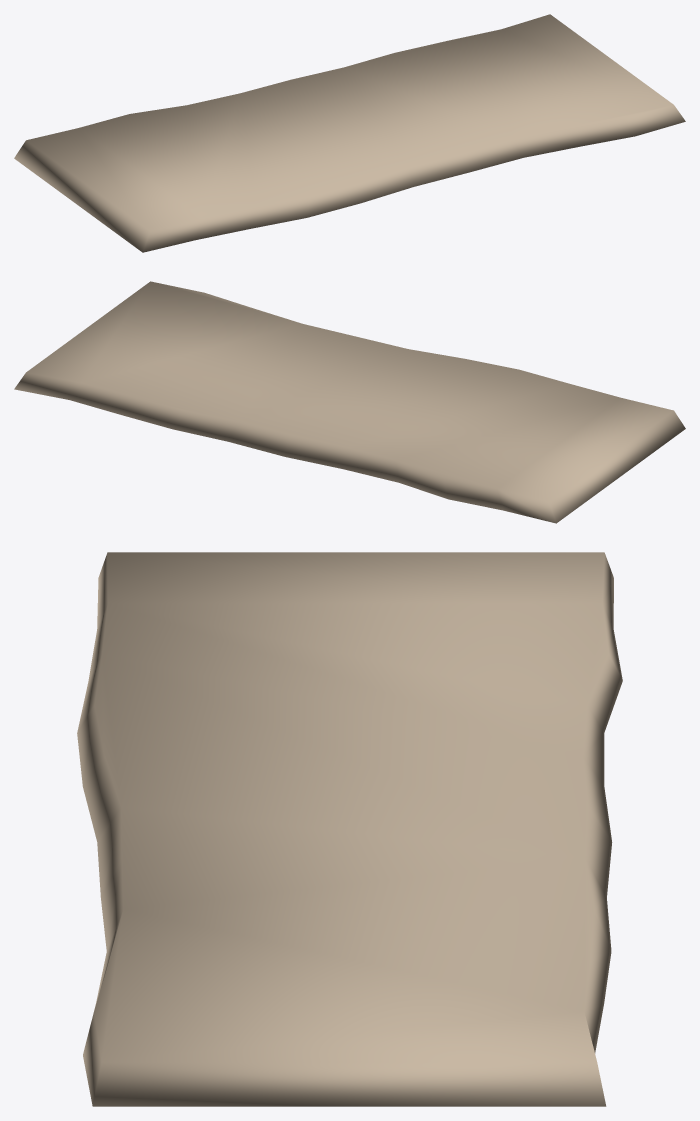
File: table_tapered.glb
3 views of the same model, one above another, from view 1: azimuth 30°, elevation 25°; view 2: azimuth 150°, elevation 25°; view 3: azimuth 270°, elevation 25° (orthographic). The views are drawn at different scales.
Visible parts, largest first — view 1: TableTop; view 2: TableTop; view 3: TableTop.
Boxes of the visible parts, left/top/right/bottom form: TableTop: left=14, top=14, right=685, bottom=252; TableTop: left=14, top=281, right=685, bottom=523; TableTop: left=77, top=552, right=622, bottom=1106.
Bounding box in the file's own units: 2.59 × 0.08 × 1.13.
